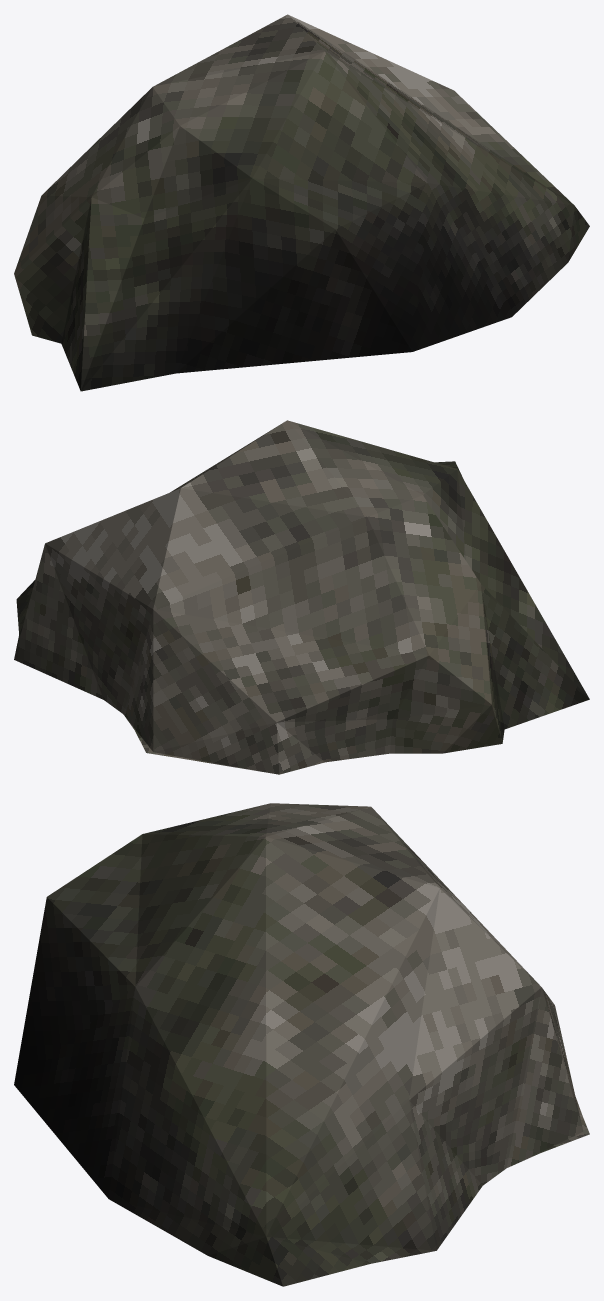
The model's file is small_rocks_01.glb.
The picture shows the model from 3 angles, top to bottom: view 1: azimuth 30°, elevation 25°; view 2: azimuth 150°, elevation 25°; view 3: azimuth 270°, elevation 25°; orthographic projection. The views are drawn at different scales.
Parts seen in each view (by area): view 1: small_rocks_01; view 2: small_rocks_01; view 3: small_rocks_01.
Part boxes in pixels (<box>): small_rocks_01: <box>14,14,589,391</box>; small_rocks_01: <box>14,420,589,774</box>; small_rocks_01: <box>14,803,589,1286</box>.
Size of the model in its own units: 3.51 by 1.5 by 2.68.
Materials: 1 (1 with a texture image).
